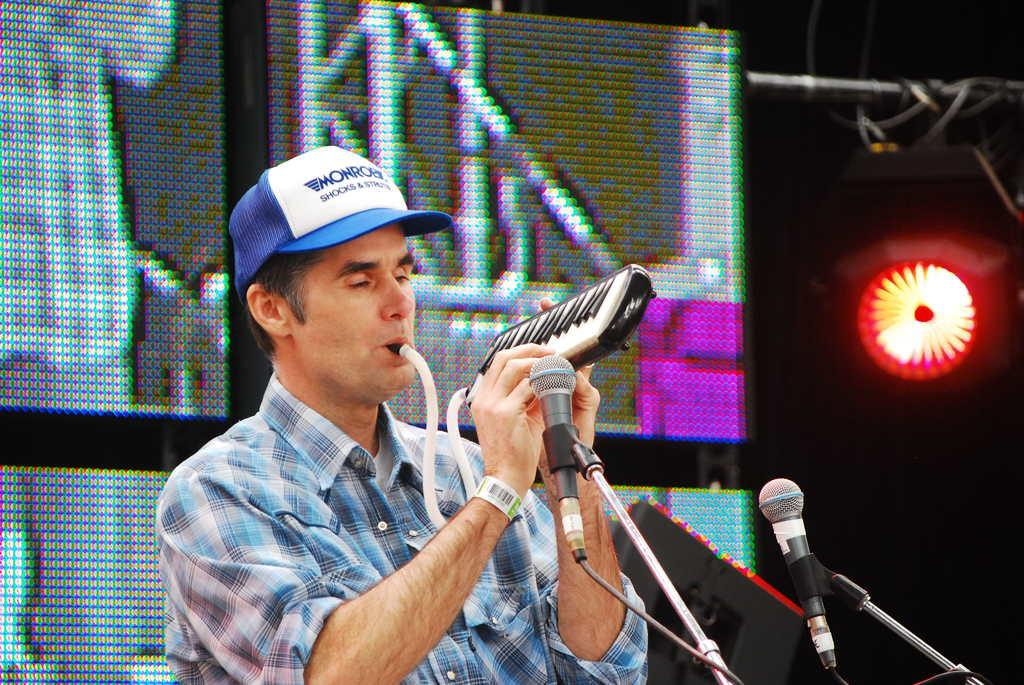Hat: (226, 146, 452, 306)
